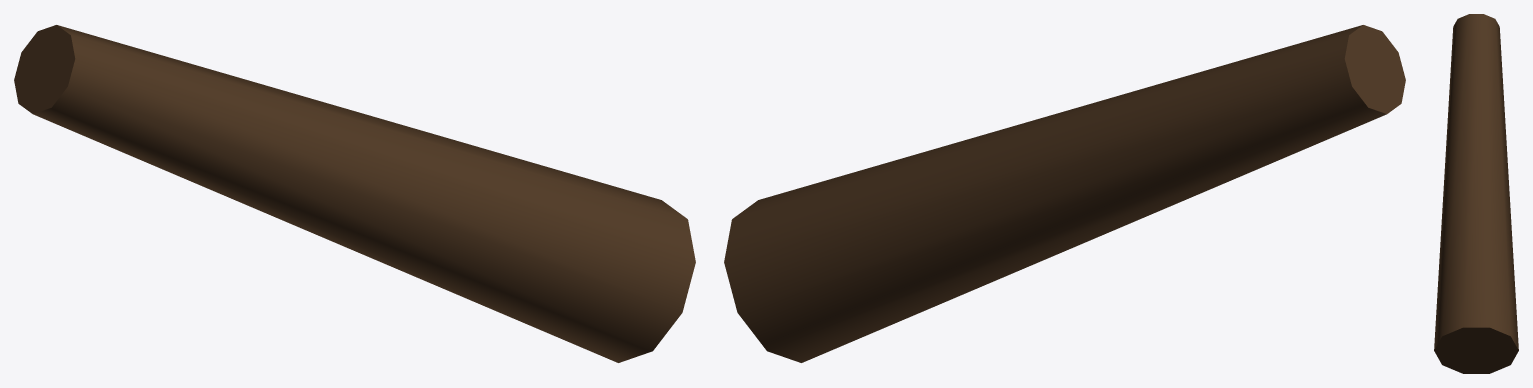
File: root-west.glb
The picture shows the model from 3 angles, left to right: view 1: azimuth 30°, elevation 25°; view 2: azimuth 150°, elevation 25°; view 3: azimuth 270°, elevation 25°; orthographic projection. The views are drawn at different scales.
Parts seen in each view (by area): view 1: Root west; view 2: Root west; view 3: Root west.
Part boxes in pixels (bbox=[...]): Root west: bbox=[14, 25, 695, 362]; Root west: bbox=[724, 25, 1405, 362]; Root west: bbox=[1434, 14, 1518, 373].
Size of the model in its own units: 32.31 by 21.67 by 7.32.
